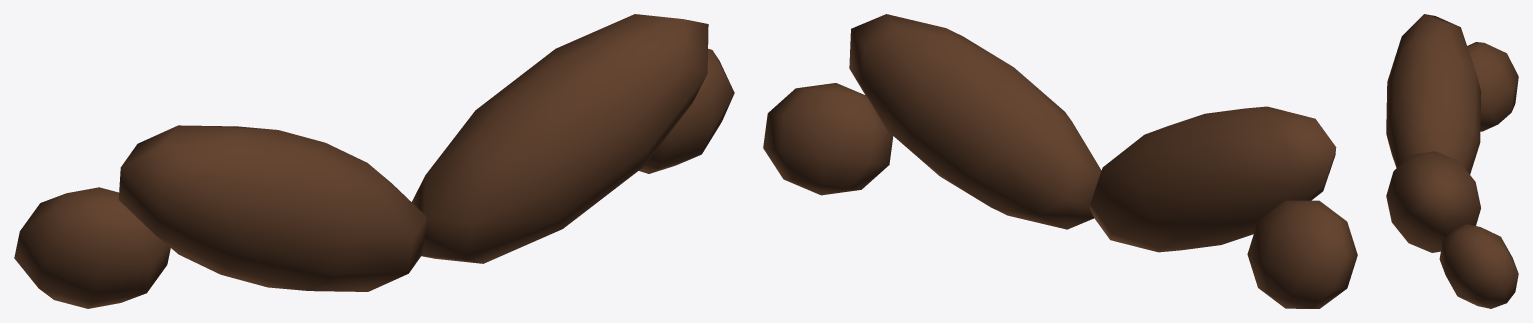
Rendered from beard_moustache.glb.
The picture shows the model from 3 angles, left to right: view 1: azimuth 30°, elevation 25°; view 2: azimuth 150°, elevation 25°; view 3: azimuth 270°, elevation 25°; orthographic projection. The views are drawn at different scales.
Parts seen in each view (by area): view 1: BeardMoustache; view 2: BeardMoustache; view 3: BeardMoustache.
Part boxes in pixels (x1,y1,x2,y2): BeardMoustache: [14, 14, 734, 308]; BeardMoustache: [763, 14, 1357, 308]; BeardMoustache: [1386, 14, 1518, 308].
Size of the model in its own units: 0.2583 by 0.0685 by 0.0661.
